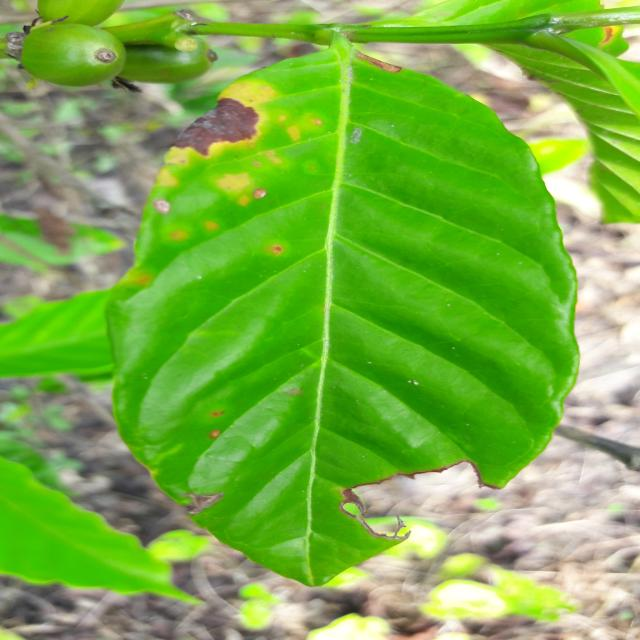Enfermedad-Roya: (104, 48, 582, 590)
